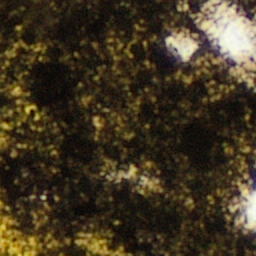cement_matrix: (0, 0, 255, 255), (166, 31, 198, 60), (228, 0, 255, 21), (0, 248, 11, 255), (92, 243, 102, 249), (127, 170, 132, 174), (146, 181, 149, 184)
cracks: (0, 221, 32, 255), (93, 244, 101, 248), (128, 171, 131, 173), (147, 182, 148, 183)
gravel_crushed_stones: (198, 0, 255, 84), (234, 181, 255, 231), (167, 32, 197, 59), (251, 75, 253, 77)
